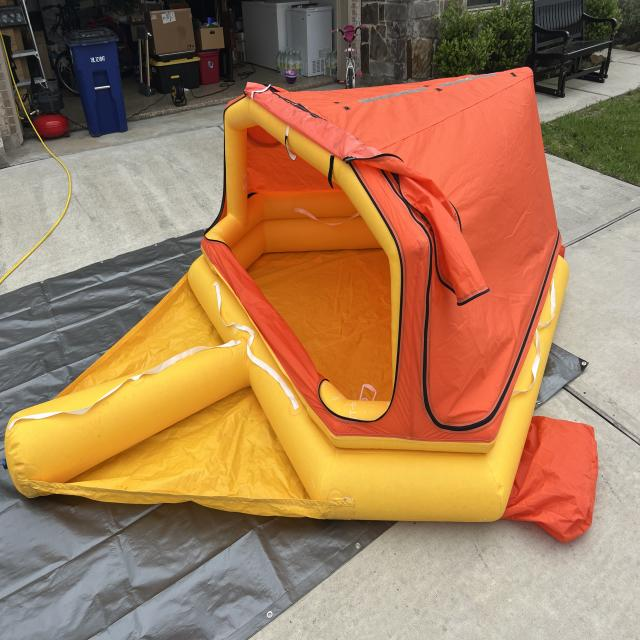Multi-person_life_raft: (4, 64, 598, 544)
